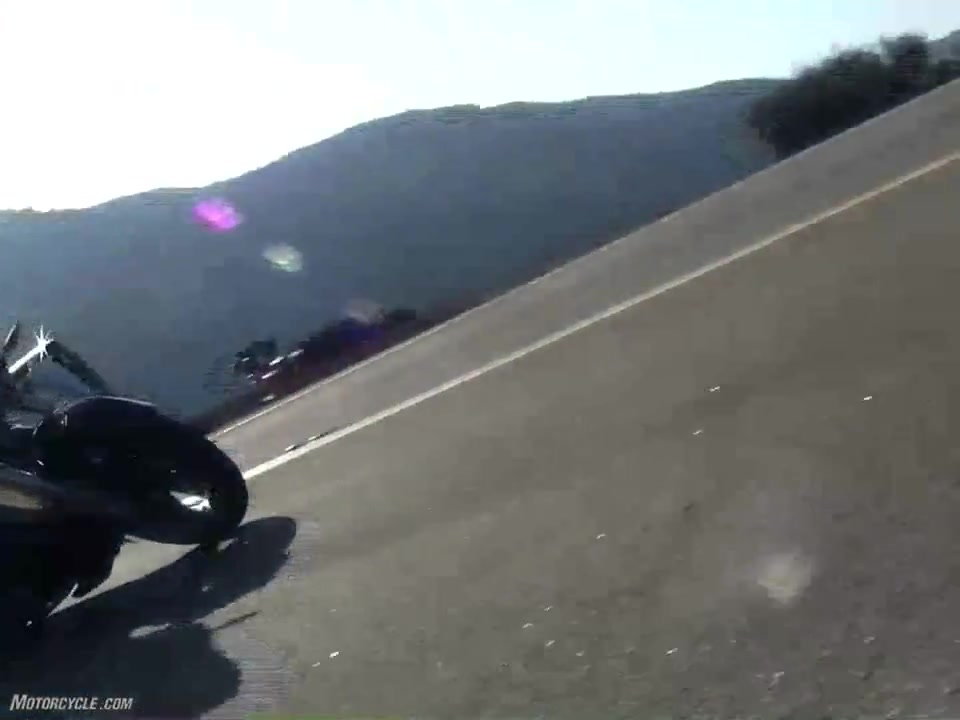motorbike: (1, 322, 255, 630)
